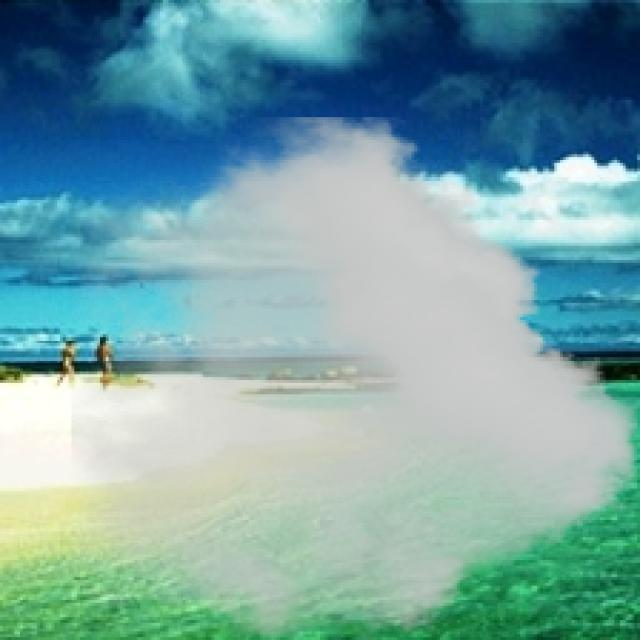Smoke: (71, 117, 640, 637)
